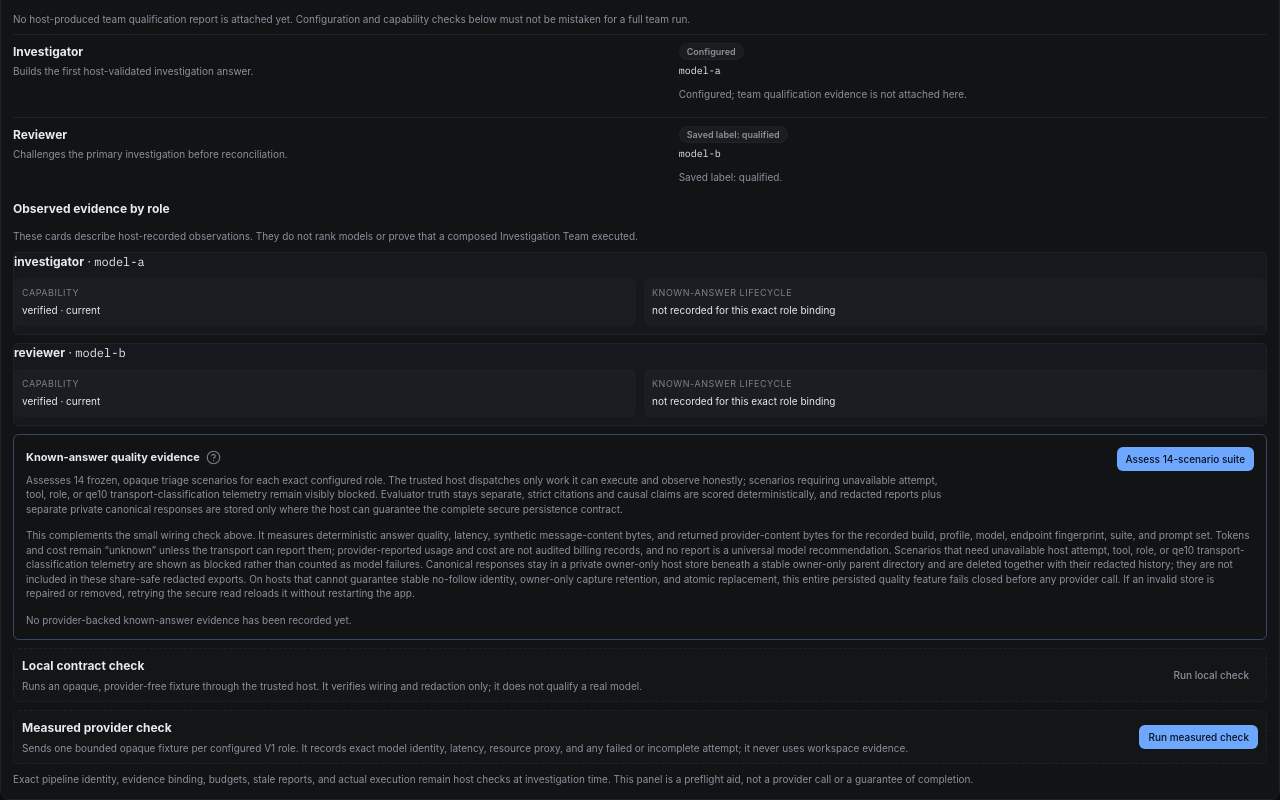
Test: InvestigationTeamReadinessPanel › surfaces a trusted-host synthetic check failure without claiming a report
(page scrolled)
Click the button with test id "investigation-team-run-synthetic" at (1211, 675), box [1164,663,1258,687]
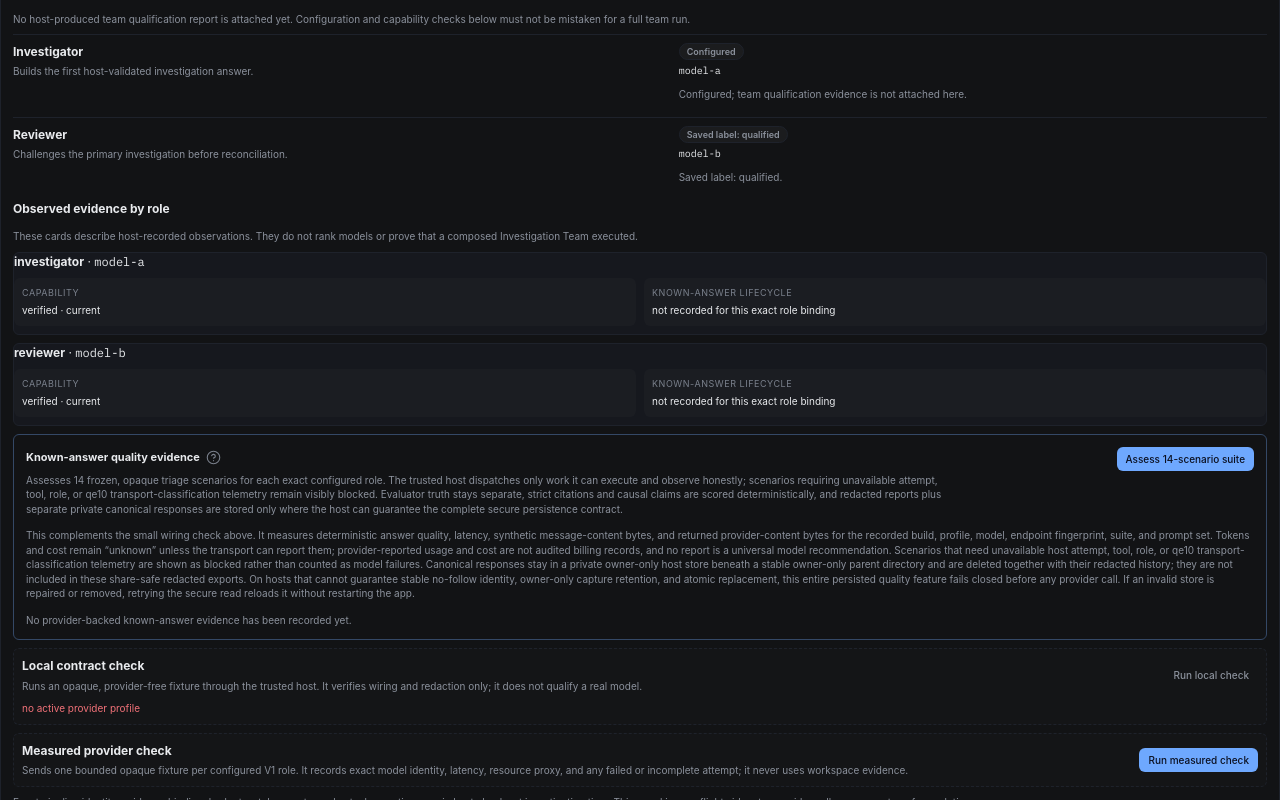
Expected: the message with test id "investigation-team-synthetic-error" reads "no active provider profile", [22,702,140,714]
